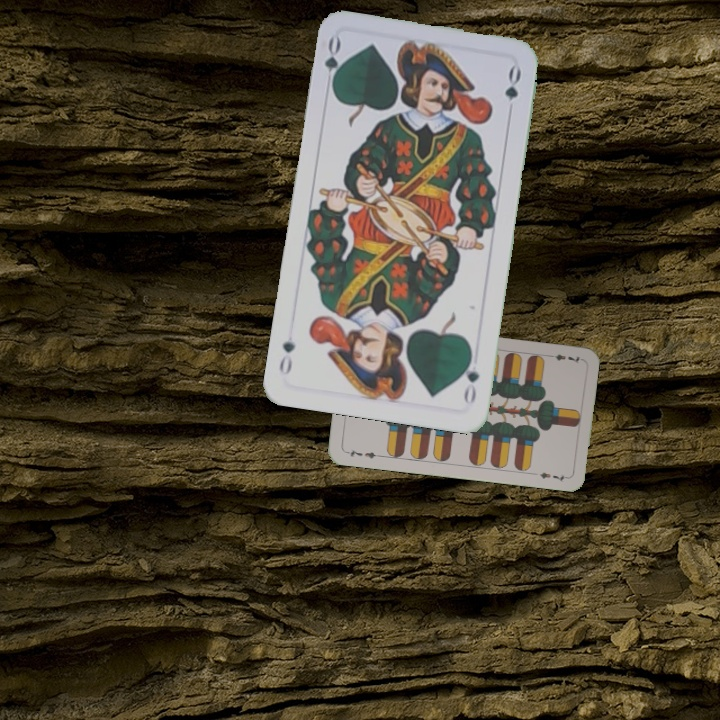E7: (342, 445, 383, 461), (543, 350, 584, 366)
GO: (320, 33, 346, 94), (459, 348, 482, 407)
